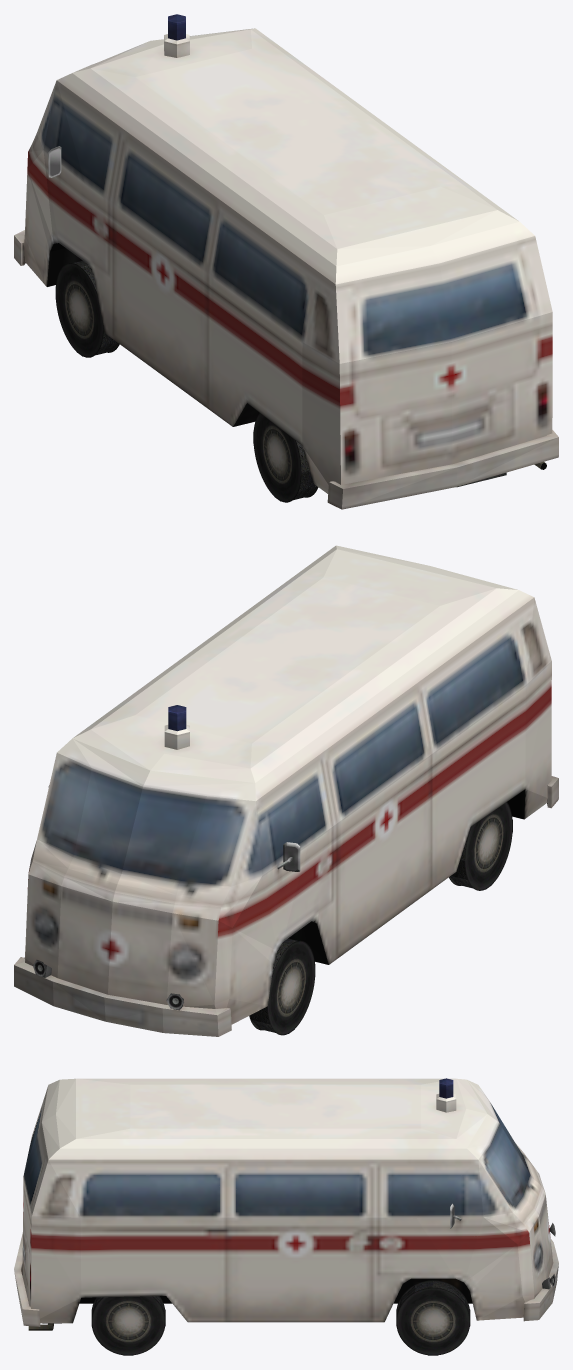
The model's file is ambulance.DAE.
The picture shows the model from 3 angles, top to bottom: view 1: azimuth 30°, elevation 25°; view 2: azimuth 150°, elevation 25°; view 3: azimuth 270°, elevation 25°; orthographic projection. The views are drawn at different scales.
Visible parts, largest first — view 1: mesh-0, part1, part2; view 2: mesh-0, part1, part2; view 3: mesh-0, part1, part2.
Part boxes in pixels (x1,y1,x2,y2): mesh-0: (14, 14, 558, 509); part1: (55, 260, 119, 357); part2: (253, 413, 318, 502); mesh-0: (14, 545, 558, 1036); part1: (249, 938, 315, 1035); part2: (449, 802, 512, 890); mesh-0: (14, 1078, 558, 1330); part1: (396, 1280, 470, 1355); part2: (91, 1296, 165, 1355).
Bounding box in the file's own units: 1.9 × 2.2 × 4.62.
Materials: 3 (3 with a texture image).
